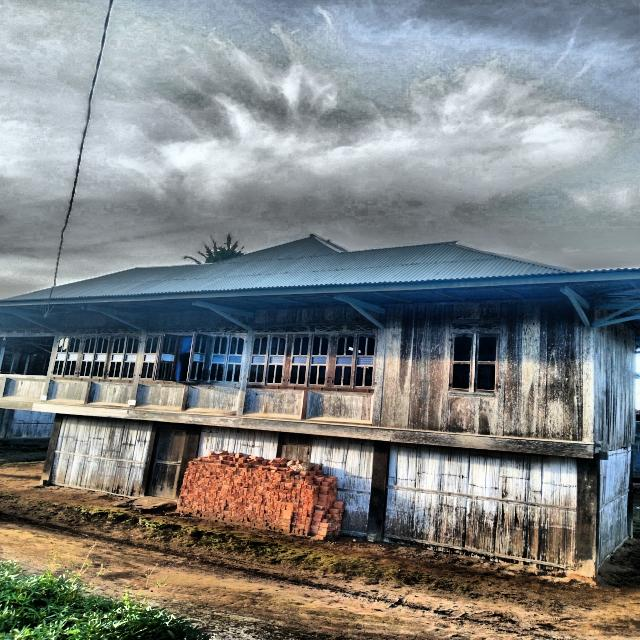column: (576, 452, 609, 578), (366, 440, 390, 541), (175, 424, 202, 503), (39, 413, 64, 484)
ornamen: (305, 390, 374, 424), (243, 388, 304, 419), (185, 385, 240, 416), (134, 383, 185, 410), (87, 382, 133, 407), (46, 379, 88, 404), (2, 377, 46, 400)
roof: (0, 235, 640, 306)
wall: (379, 301, 636, 453), (383, 442, 576, 574), (242, 307, 380, 425), (134, 311, 247, 416), (46, 314, 142, 407), (50, 415, 154, 498), (310, 436, 376, 538), (599, 446, 631, 569), (197, 425, 279, 460)
window: (448, 333, 500, 393), (153, 333, 210, 382), (331, 334, 378, 389), (288, 334, 331, 387), (246, 335, 286, 385), (207, 336, 247, 384), (107, 336, 141, 380), (77, 336, 110, 379), (51, 336, 82, 378), (139, 336, 160, 380)
